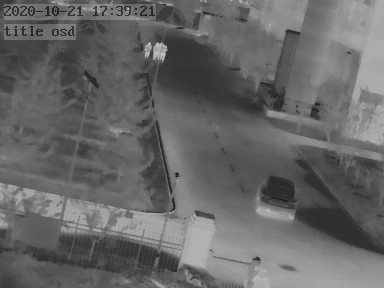person: (143, 40, 151, 58), (153, 42, 161, 60), (162, 43, 168, 62)
vehicle: (257, 175, 297, 221)
